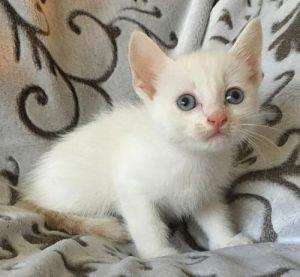siamese: (125, 17, 273, 161)
